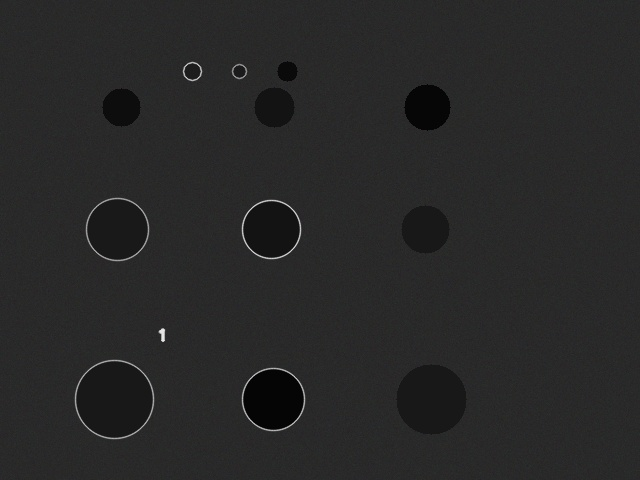hole: (75, 360, 153, 438), (396, 364, 466, 434), (86, 198, 148, 260), (242, 368, 304, 430), (242, 200, 300, 258), (401, 205, 449, 253), (404, 84, 450, 130), (254, 87, 294, 127), (102, 88, 140, 126), (277, 61, 297, 81), (183, 62, 201, 80), (232, 64, 246, 78)
